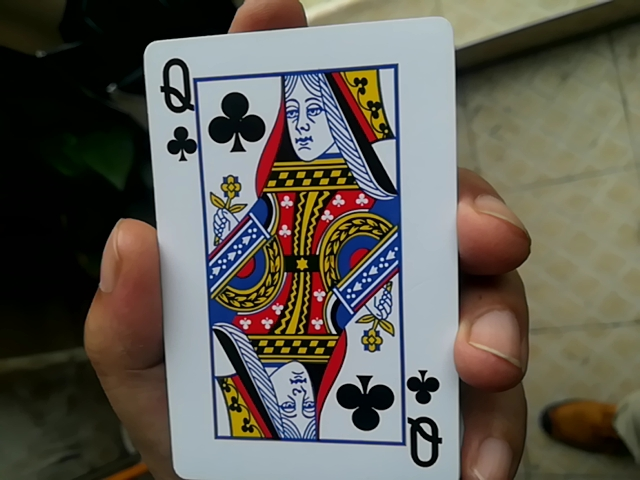mh q: (131, 16, 466, 478)
